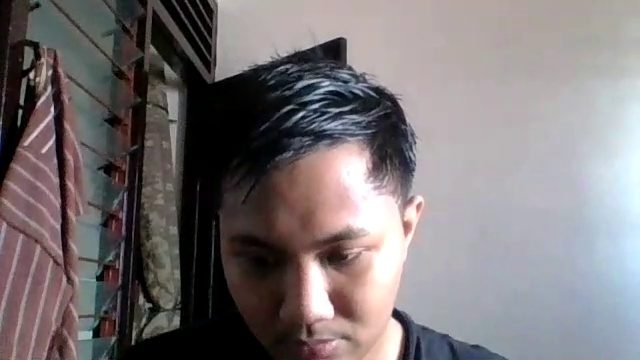Distracted: (208, 106, 421, 359)
